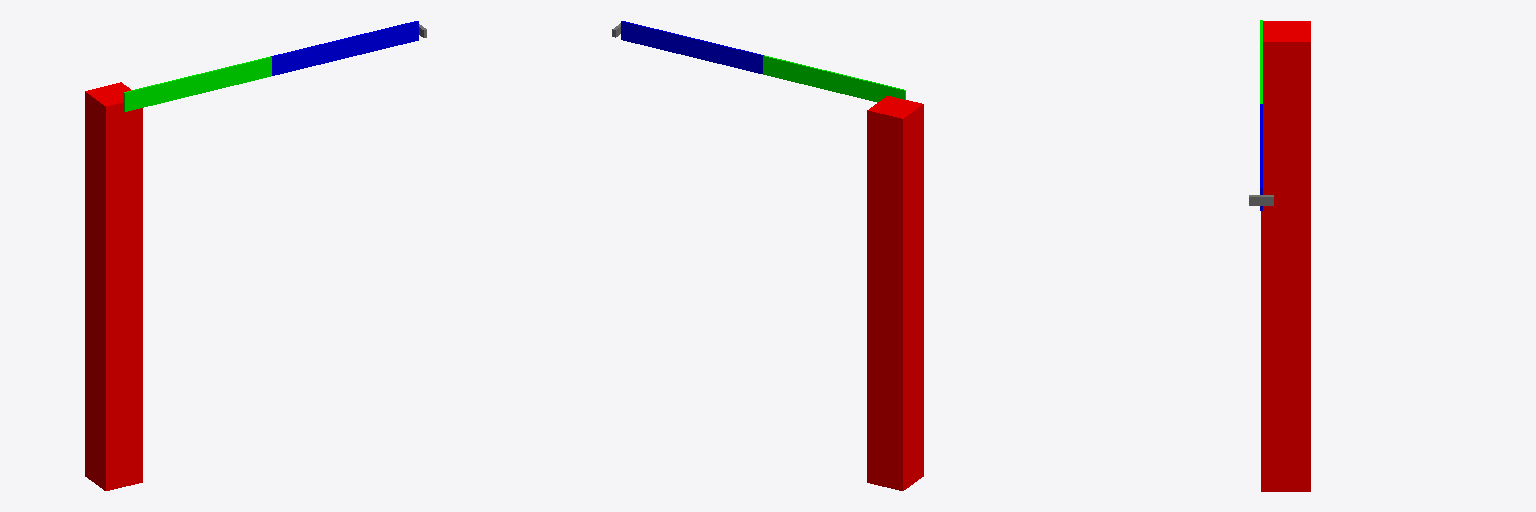
The robot description file, URDF, robot "planar_arm_robot":
<?xml version="1.0"?>
<robot name="planar_arm_robot">
    <link name="world" />
    <material name="red_translucent">
        <color rgba="1.0 0.0 0.0 0.2"/>
    </material>
    <material name="green">
        <color rgba="0.0 1.0 0.0 1.0"/>
    </material>
    <material name="blue">
        <color rgba="0.0 0.0 1.0 1.0"/>
    </material>
    <material name="grey">
        <color rgba="0.5 0.5 0.5 1.0"/>
    </material>

    <link name="base_link">
        <visual>
            <origin xyz="0.0 0.0 0.0" rpy="0 0 0"/>
            <geometry>
                <box size= "0.1 0.1 1.0"/>
            </geometry>
            <material name="red_translucent"/>
        </visual>
    </link>

    <link name="link_1">
        <visual>
            <origin xyz="0.2 0 0" rpy="0 0 0"/>     <!-- origin for link_1 defined at the edge of the link-->
            <geometry>
                <box size="0.4 0.05 0.005"/>        <!--length, breadth and height of the link -->
            </geometry>
            <material name="green"/>
        </visual>
        <collision>
            <origin xyz="0.2 0 0" rpy="0 0 0"/>
            <geometry>
                <mesh filename="package://planar_arm_robot_description/meshes/collision/link_1.stl" scale = "1 1 1"/>
            </geometry>
        </collision>
        <inertial>
            <origin xyz="0.2 0 0" rpy="0 0 0"/>
            <mass value="2.5"/>
            <inertia ixx="0.000526" ixy="0.0" ixz="0.0" iyy="0.033339" iyz="0.0" izz="0.033854"/>
        </inertial>
    </link>

    <link name="link_2">
        <visual>
            <origin xyz="0.2 0 0" rpy="0 0 0"/>     <!-- origin for link_2 also defined at the edge of the link.-->
            <geometry>
                <box size="0.4 0.05 0.005"/>        <!-- length, breadth and height of the link -->
            </geometry>
            <material name="blue"/>
        </visual>
        <collision>
            <origin xyz="0.2 0 0" rpy="0 0 0"/>
            <geometry>
                <mesh filename="package://planar_arm_robot_description/meshes/collision/link_2.stl" scale = "1 1 1"/>
            </geometry>
        </collision>
        <inertial>
            <origin xyz="0.2 0 0" rpy="0 0 0"/>
            <mass value="2.5"/>
            <inertia ixx="0.000526" ixy="0.0" ixz="0.0" iyy="0.033339" iyz="0.0" izz="0.033854"/>
        </inertial>        
    </link>

    <link name="end_effector_link">
        <visual>
            <origin xyz="0.005 0 0" rpy="0 0 0"/>     <!-- origin for end_effector.-->
            <geometry>
                <box size="0.01 0.02 0.05"/>        <!-- length, breadth and height of the link -->
            </geometry>
            <material name="grey"/>
        </visual>
        <collision>
            <origin xyz="0.005 0 0" rpy="0 0 0"/>
            <geometry>
                <mesh filename="package://planar_arm_robot_description/meshes/collision/end_effector.stl" scale = "1 1 1"/>
            </geometry>
        </collision>
        <inertial>
            <origin xyz="0 0 0" rpy="0 0 0"/>
            <mass value="2.5"/>
            <inertia ixx="0.000018" ixy="0.0" ixz="0.0" iyy="0.000016" iyz="0.0" izz="0.000003"/>
        </inertial>        
    </link>    

    <joint name="world_to_base_link" type="fixed">
        <origin xyz="0 0 0.5" rpy="0 0 0"/>
        <parent link="world"/>
        <child link="base_link"/>
    </joint>

    <joint name="base_link_to_link_1" type="revolute">
        <origin xyz="0.0 -0.05 0.5" rpy="1.5707963268 0.0 0.0"/>
        <parent link="base_link"/>
        <child link="link_1"/> 
        <axis xyz="0.0 0.0 1.0"/>
        <limit effort="10.0" velocity="2.0" lower="-3.14" upper="3.14"/>         
    </joint>

    <joint name="link_1_to_link_2" type="revolute">
        <origin xyz="0.4 0.0 0.0" rpy="0.0 0.0 0.0"/>
        <parent link="link_1"/>
        <child link="link_2"/>
        <axis xyz="0.0 0.0 1.0"/>
        <limit effort="10.0" velocity="2.0" lower="-3.14" upper="3.14"/> 
    </joint>

    <joint name="link_2_to_end_effector" type="revolute">
        <origin xyz="0.4 0.0 0.0" rpy="0.0 0.0 0.0"/>
        <parent link="link_2"/>
        <child link="end_effector_link"/>
        <axis xyz="1.0 0.0 0.0"/>
        <limit lower="-3.14" upper="3.14" effort="5.0" velocity="2.0"/>
    </joint>
</robot>

--- What the picture shows (computed from the rendered views, not written in the file) ---
The picture shows the robot from 3 angles, left to right: view 1: azimuth 30°, elevation 25°; view 2: azimuth 150°, elevation 25°; view 3: azimuth 270°, elevation 25°; orthographic projection.
Model planar_arm_robot with 5 links and 4 joints (3 revolute, 1 fixed), rooted at world, posed every joint at zero.
Visible links, largest first — view 1: base_link, link_1, link_2; view 2: base_link, link_2, link_1; view 3: base_link.
Link boxes in pixels (left/top/right/bottom): base_link: left=85, top=82, right=142, bottom=490; link_1: left=124, top=56, right=271, bottom=111; link_2: left=271, top=21, right=418, bottom=75; base_link: left=867, top=96, right=923, bottom=490; link_2: left=621, top=21, right=763, bottom=73; link_1: left=763, top=55, right=905, bottom=102; base_link: left=1261, top=21, right=1310, bottom=491.
Size in the robot's own frame: 0.86 by 0.125 by 1.02 metres.
Geometry: primitives only (box / cylinder / sphere), no mesh files.